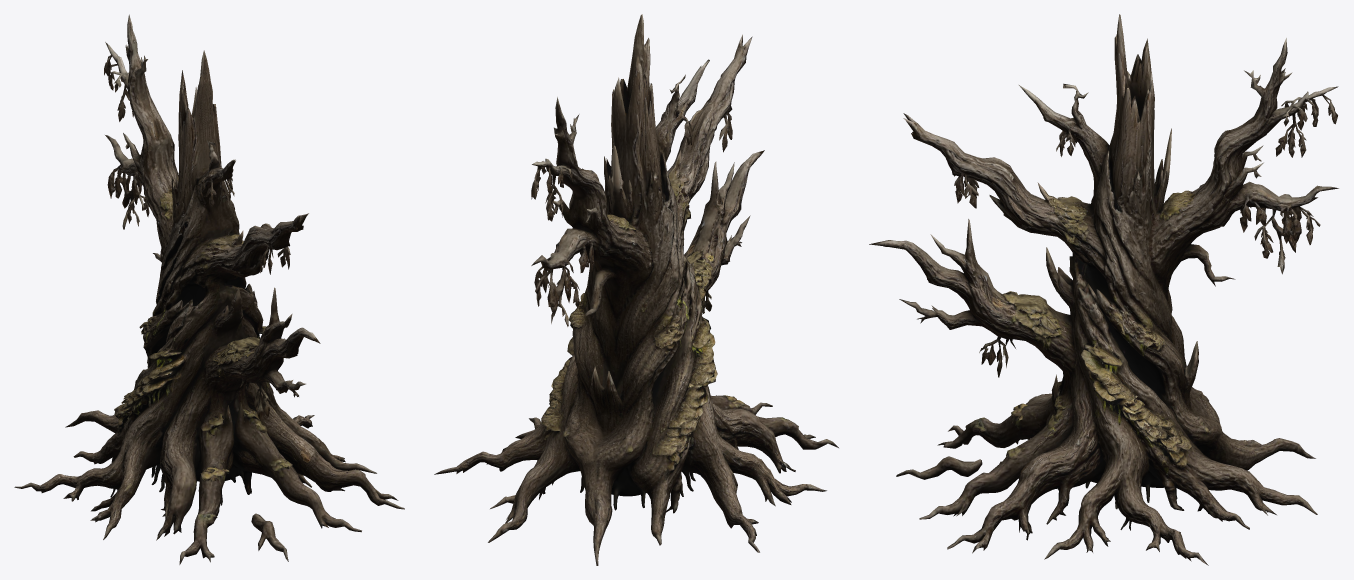
File: tripo_convert_1be4838f-0fbf-4e21-8a78-0c3c57f8badf.fbx
3 views of the same model, side by side, from view 1: azimuth 30°, elevation 25°; view 2: azimuth 150°, elevation 25°; view 3: azimuth 270°, elevation 25° (orthographic). The views are drawn at different scales.
Visible parts, largest first — view 1: tripo_node_1be4838f; view 2: tripo_node_1be4838f; view 3: tripo_node_1be4838f.
Part boxes in pixels (<box>): tripo_node_1be4838f: <box>14,14,404,564</box>; tripo_node_1be4838f: <box>434,14,838,565</box>; tripo_node_1be4838f: <box>869,14,1338,565</box>.
Size of the model in its own units: 0.7138 by 0.9852 by 0.8873.
1 material, 1 textured.
